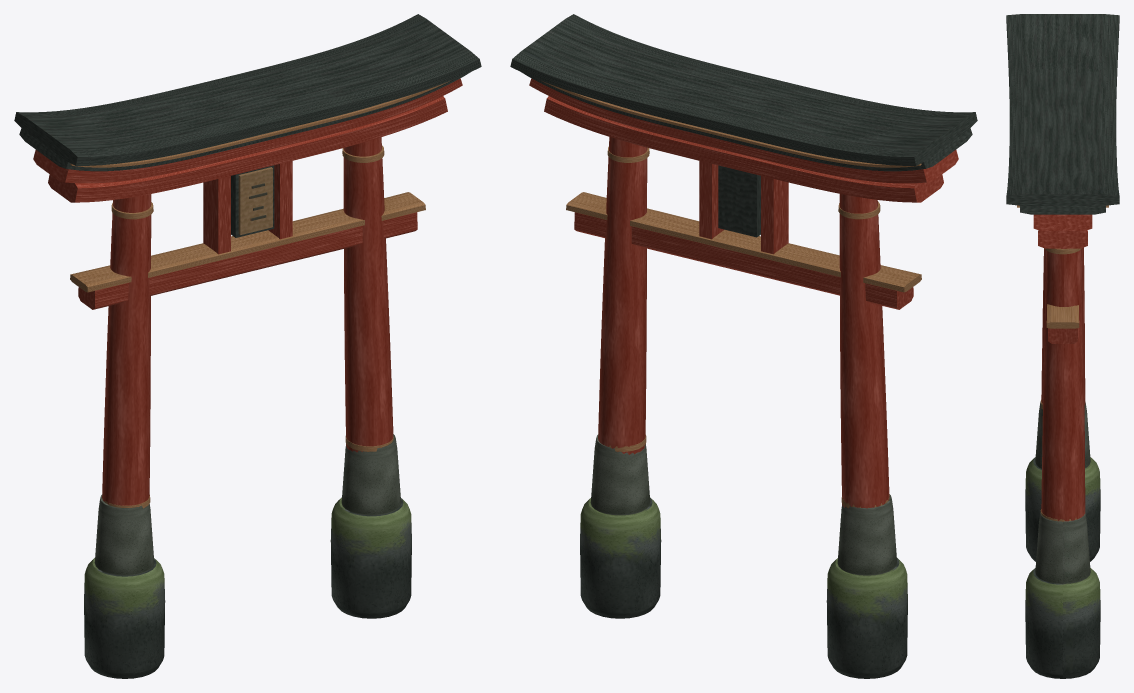
Rendered from water_torii.glb.
3 views of the same model, side by side, from view 1: azimuth 30°, elevation 25°; view 2: azimuth 150°, elevation 25°; view 3: azimuth 270°, elevation 25° (orthographic). The views are drawn at different scales.
Visible parts, largest first — view 1: water_torii; view 2: water_torii; view 3: water_torii.
Part boxes in pixels (x1,y1,x2,y2): water_torii: (14, 14, 481, 678); water_torii: (510, 14, 977, 678); water_torii: (1006, 14, 1119, 678).
Size of the model in its own units: 5.8 by 7.4 by 1.5.
Materials: 1 (1 with a texture image).
